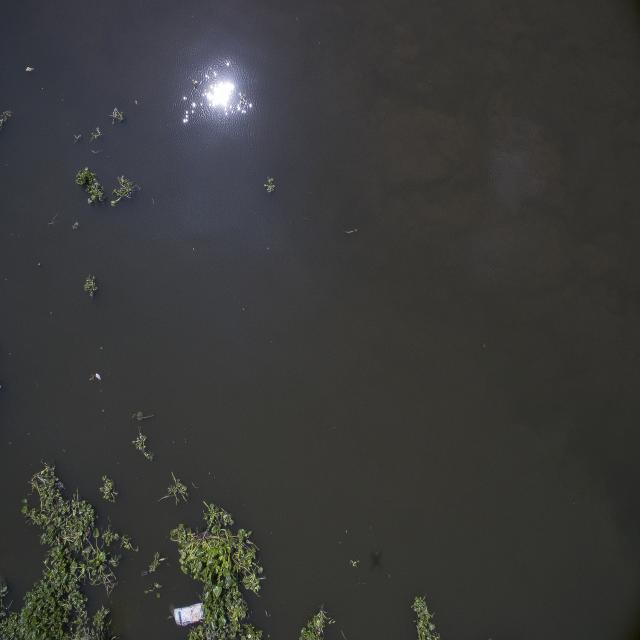plastic: (154, 588, 235, 636)
